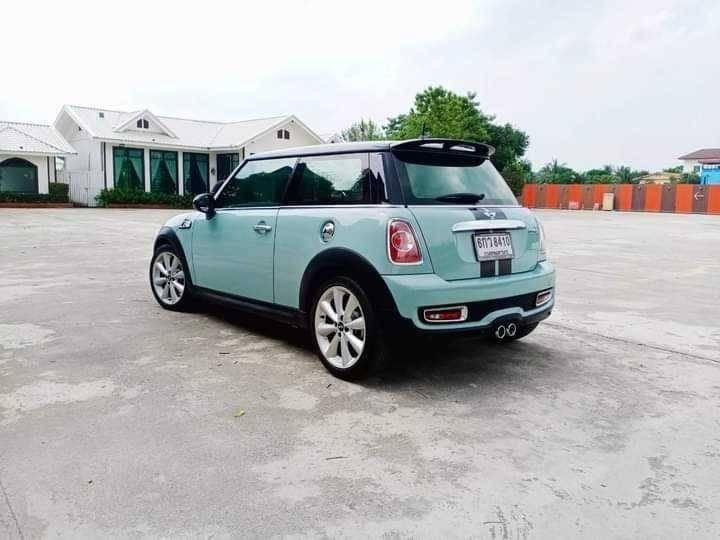license-plate: (470, 232, 515, 262)
